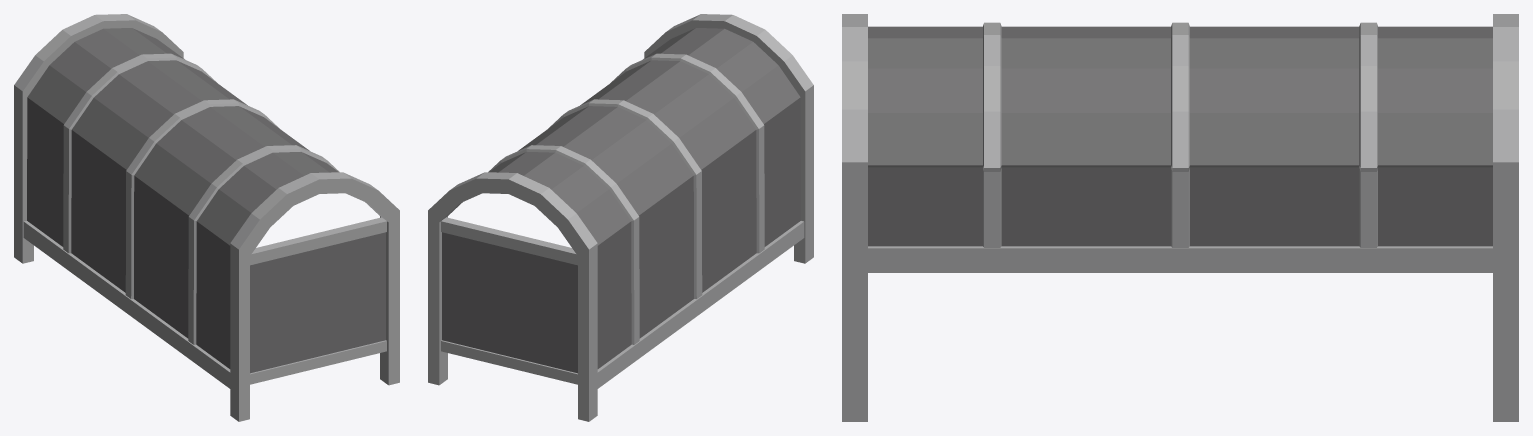
File: SM_Bus_Stop.fbx
The picture shows the model from 3 angles, left to right: view 1: azimuth 30°, elevation 25°; view 2: azimuth 150°, elevation 25°; view 3: azimuth 270°, elevation 25°; orthographic projection. The views are drawn at different scales.
Visible parts, largest first — view 1: SM_Bus_Stop_LOD0; view 2: SM_Bus_Stop_LOD0; view 3: SM_Bus_Stop_LOD0.
Boxes of the visible parts, x1,y1,x2,y2 form: SM_Bus_Stop_LOD0: (14,14,399,421); SM_Bus_Stop_LOD0: (428,14,813,421); SM_Bus_Stop_LOD0: (842,14,1518,421).
Bounding box in the file's own units: 215 × 520 × 285.
Materials: 1 (1 with a texture image).
